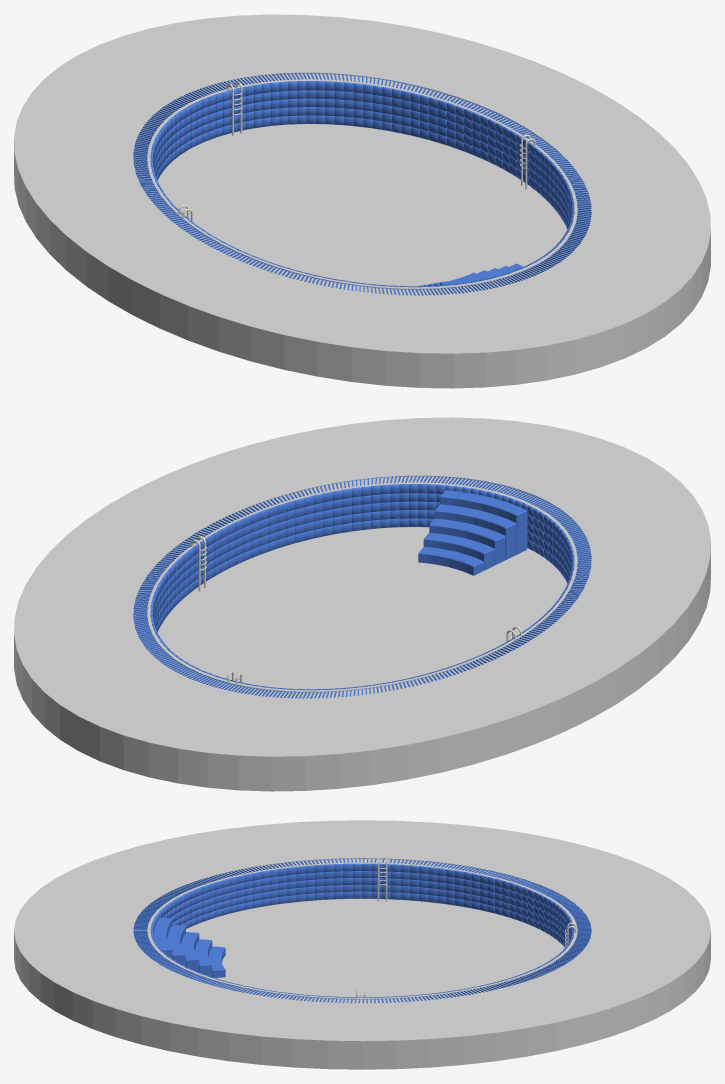
The model's file is Kleines_Ovales_Schwimmbecken.fbx.
3 views of the same model, one above another, from view 1: azimuth 30°, elevation 25°; view 2: azimuth 150°, elevation 25°; view 3: azimuth 270°, elevation 25° (orthographic). The views are drawn at different scales.
Parts seen in each view (by area): view 1: Circle.013; view 2: Circle.013; view 3: Circle.013.
Boxes of the visible parts, bbox=[...] form: Circle.013: bbox=[14, 14, 710, 388]; Circle.013: bbox=[14, 417, 710, 791]; Circle.013: bbox=[14, 820, 710, 1069].
Bounding box in the file's own units: 1535 × 136 × 2047.
